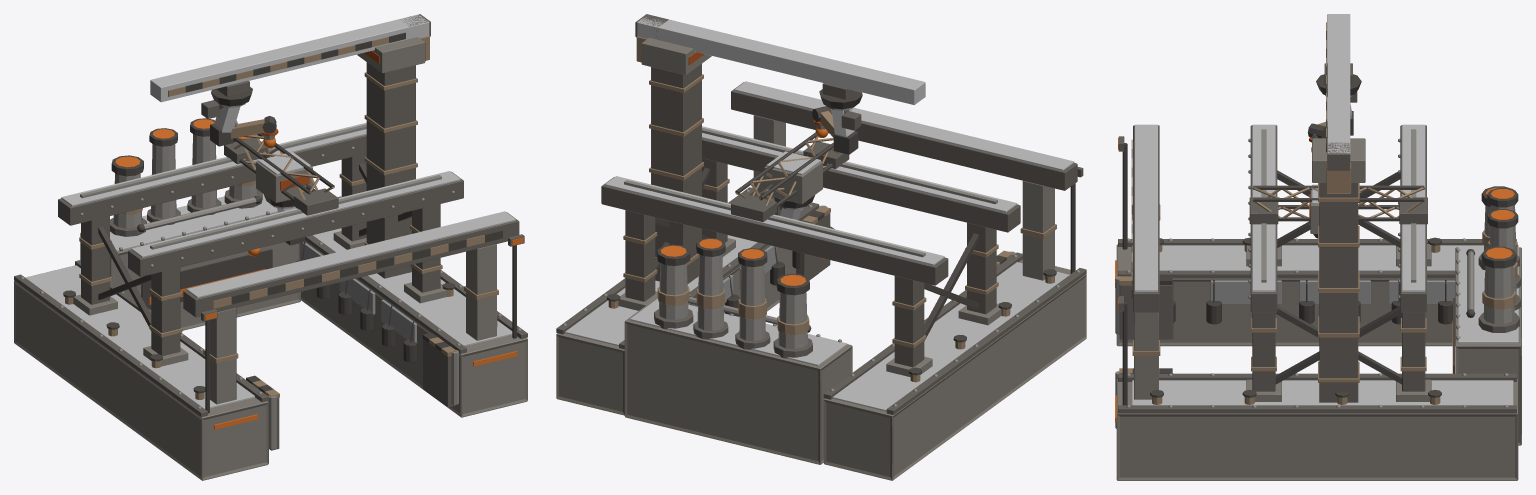
Rendered from crucible_adv_shipyard.glb.
The picture shows the model from 3 angles, left to right: view 1: azimuth 30°, elevation 25°; view 2: azimuth 150°, elevation 25°; view 3: azimuth 270°, elevation 25°; orthographic projection. The views are drawn at different scales.
Visible parts, largest first — view 1: Body; view 2: Body; view 3: Body.
Part boxes in pixels (x1=…): Body: x1=14, y1=14, x2=527, y2=480; Body: x1=556, y1=14, x2=1086, y2=480; Body: x1=1115, y1=14, x2=1521, y2=480.
Bounding box in the file's own units: 22.7 × 20.3 × 22.83.
